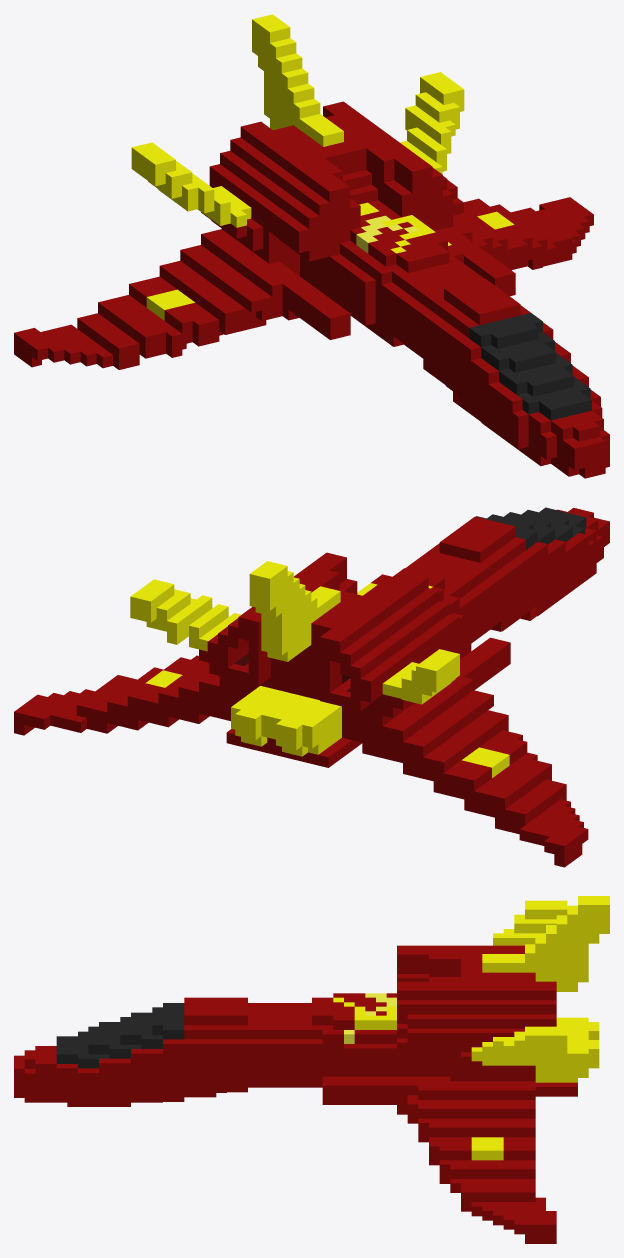
File: shipURSS.FBX
3 renders of one model, top to bottom at view 1: azimuth 30°, elevation 25°; view 2: azimuth 150°, elevation 25°; view 3: azimuth 270°, elevation 25°, orthographic. The views are drawn at different scales.
Parts seen in each view (by area): view 1: default; view 2: default; view 3: default.
Boxes of the visible parts, x1=… form: default: x1=14, y1=14, x2=609, y2=478; default: x1=14, y1=507, x2=609, y2=867; default: x1=14, y1=896, x2=609, y2=1243.
Bounding box in the file's own units: 54 × 56 × 23.
1 material, 1 textured.
